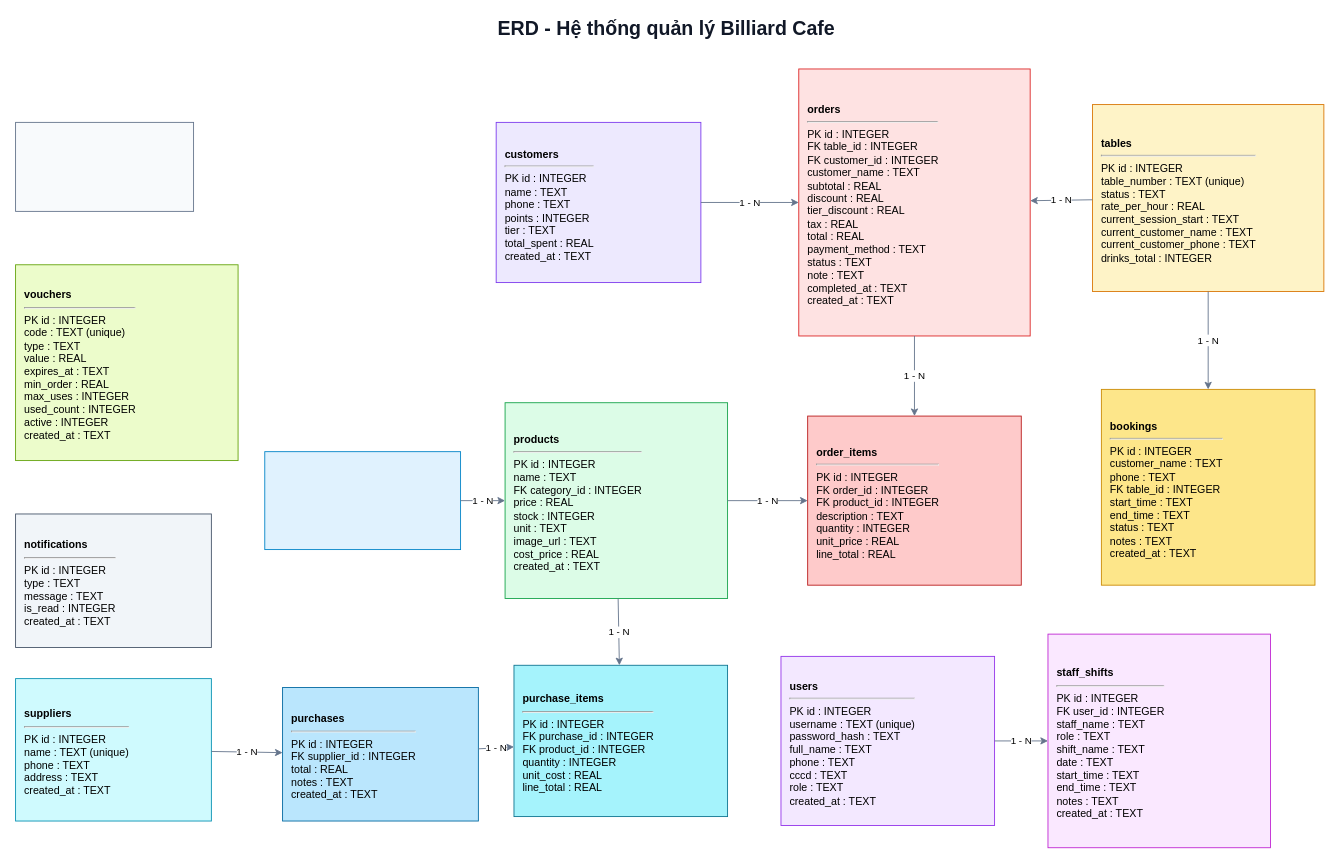
Some shapes in this 1339 by 863 pixel diagram are drawn without their labels. Each missing label, with the centre of its shape:
"categories PK id : INTEGER name : TEXT (unique)" goes at point 362,500.
"settings PK key : TEXT value : TEXT" goes at point 104,166.
